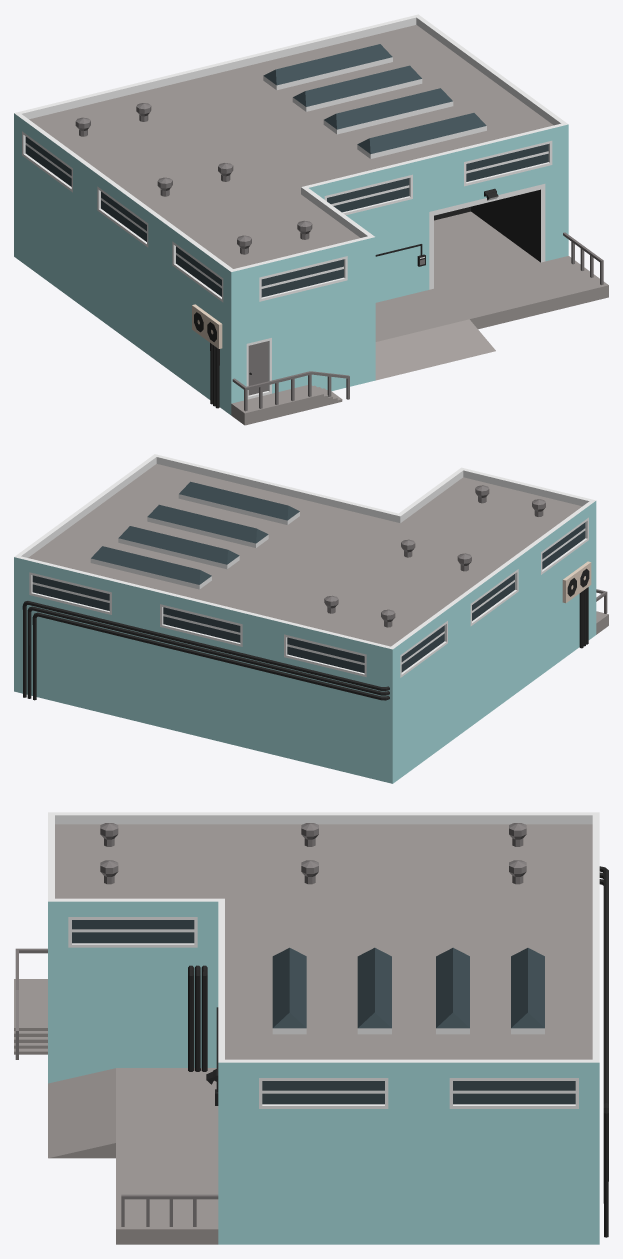
File: buildings_industry-warehouse.fbx
3 views of the same model, one above another, from view 1: azimuth 30°, elevation 25°; view 2: azimuth 150°, elevation 25°; view 3: azimuth 270°, elevation 25° (orthographic). The views are drawn at different scales.
Parts seen in each view (by area): view 1: buildings_industry_warehouse; view 2: buildings_industry_warehouse; view 3: buildings_industry_warehouse.
Boxes of the visible parts, box(x1,y1,x2,y2) form: buildings_industry_warehouse: box(14, 14, 608, 425); buildings_industry_warehouse: box(14, 454, 608, 783); buildings_industry_warehouse: box(14, 812, 608, 1244).
Size of the model in its own units: 200 by 71.82 by 199.
